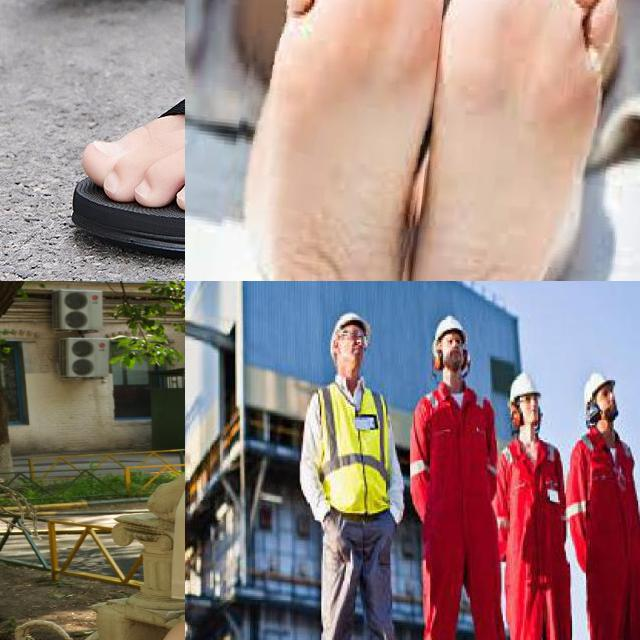Barefoots: (401, 0, 640, 281), (239, 0, 450, 281)
Ear-protection: (419, 343, 479, 382), (504, 394, 549, 433), (586, 391, 616, 431)
Sandals: (76, 0, 185, 249)
glasses: (333, 325, 370, 351)
head_helmet: (581, 368, 620, 406), (504, 371, 546, 405), (429, 311, 473, 343)
person: (288, 305, 421, 640), (399, 305, 519, 640), (496, 366, 576, 640), (565, 351, 640, 640)
vest: (312, 382, 396, 523)
